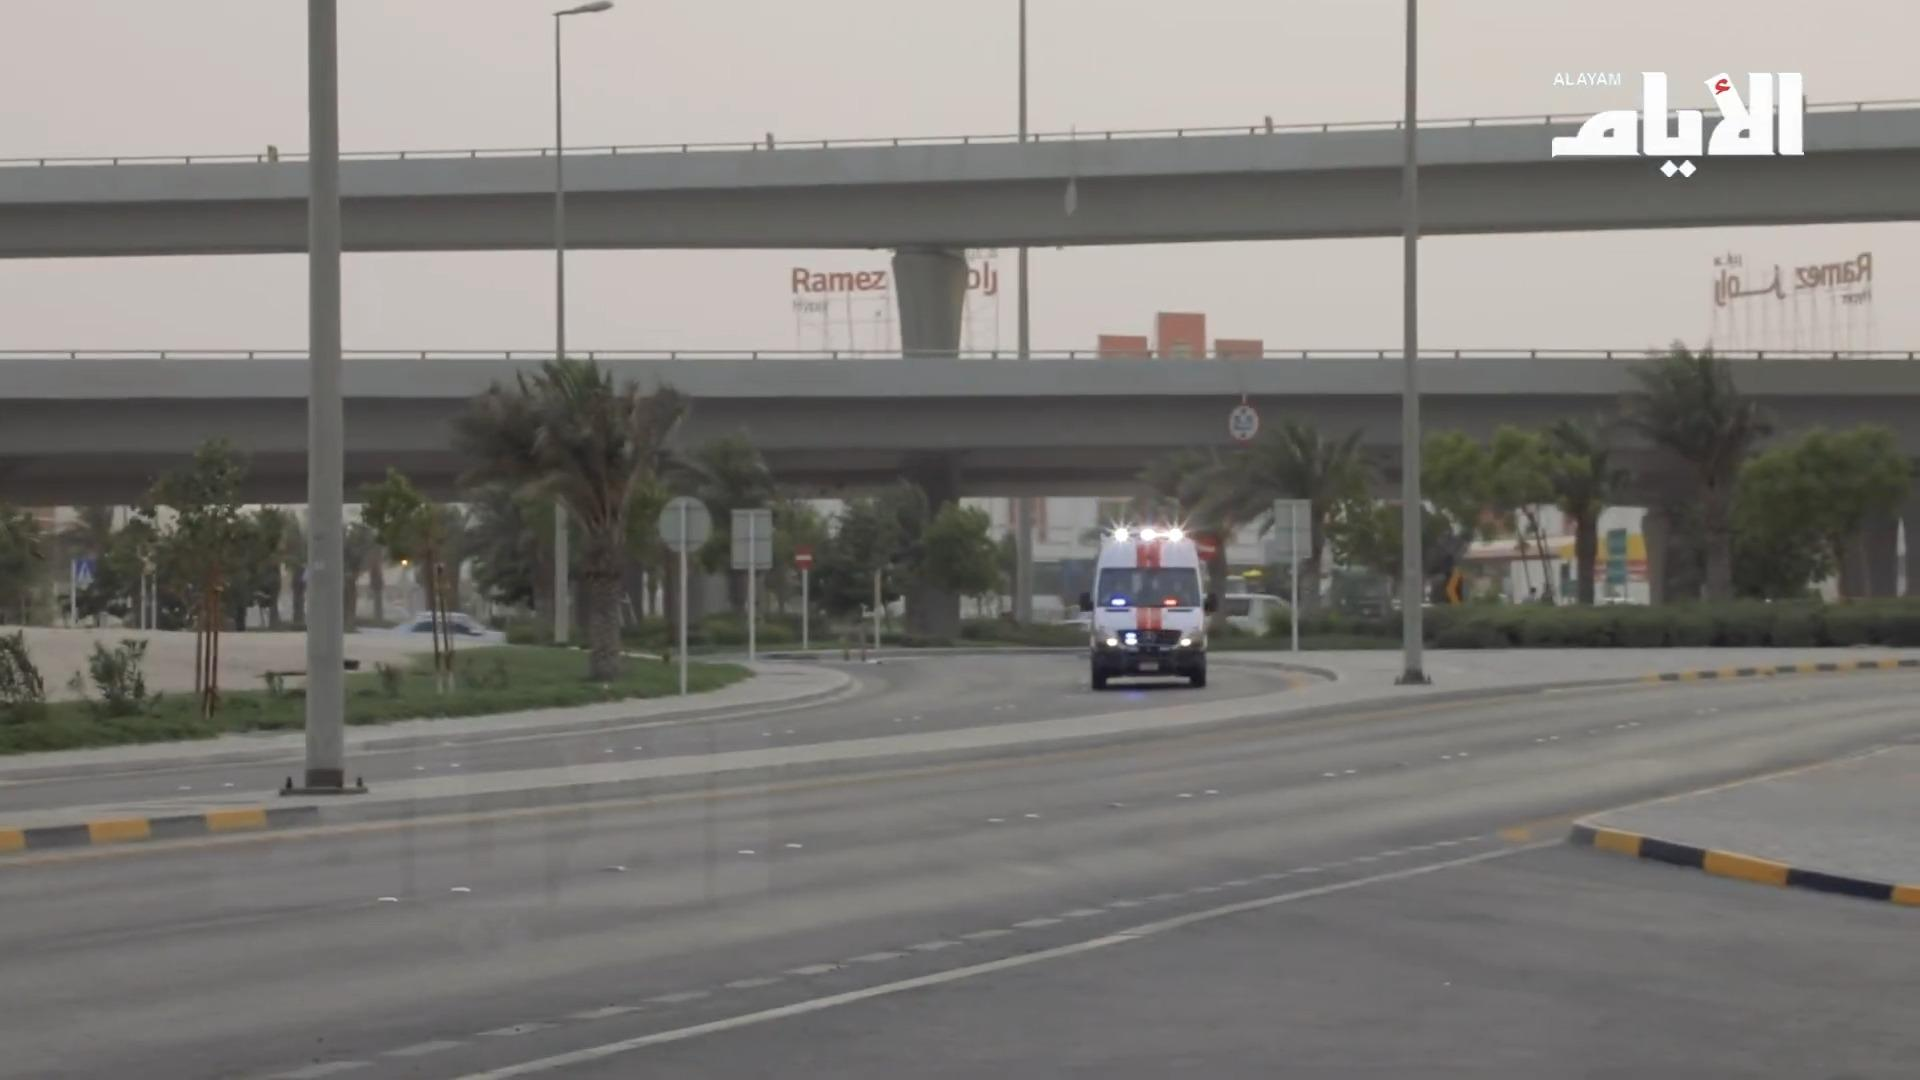ambulance_on: (1077, 525, 1217, 688)
